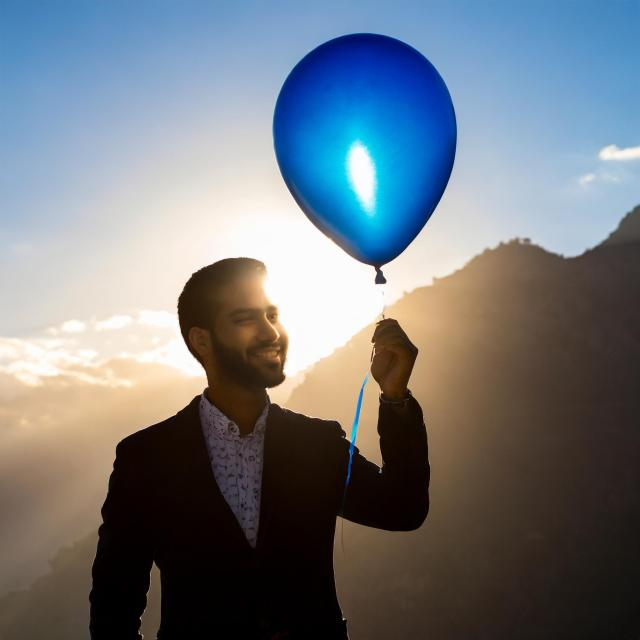blue: (274, 34, 457, 266)
